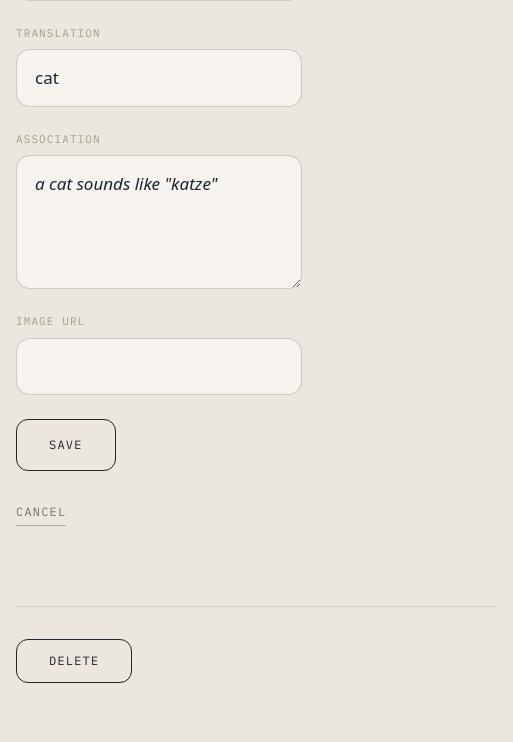
it: EditCardView › Cancel at the confirm step deletes nothing and restores the normal state
(page scrolled)
Click the button "Delete": (74, 661) [16,639,132,683]
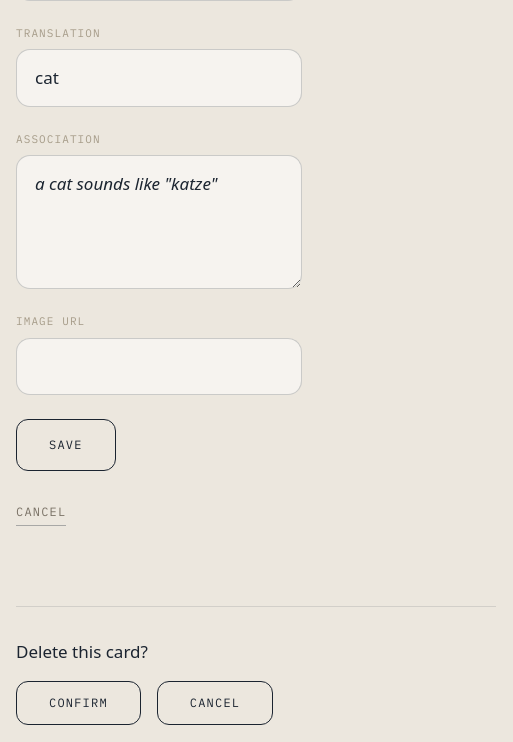
Click the button "Cancel": (215, 703) [157,681,273,725]
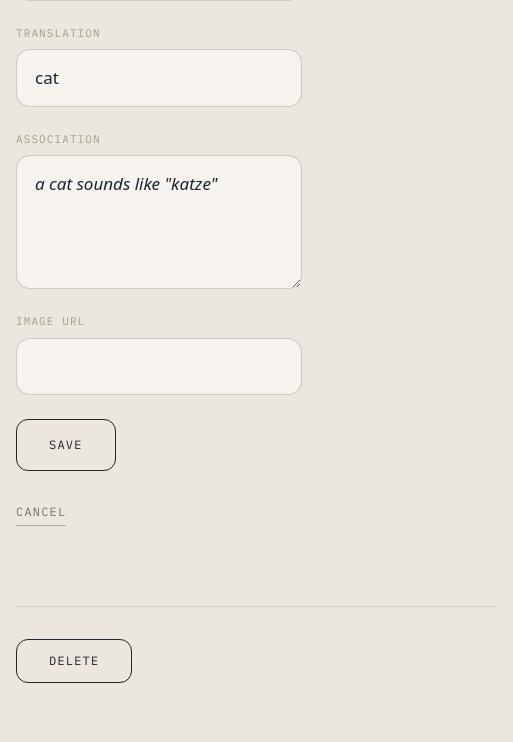
Expected: the button "Delete" is shown, [16,639,132,683]
Result: the text "Delete this card?" is gone
